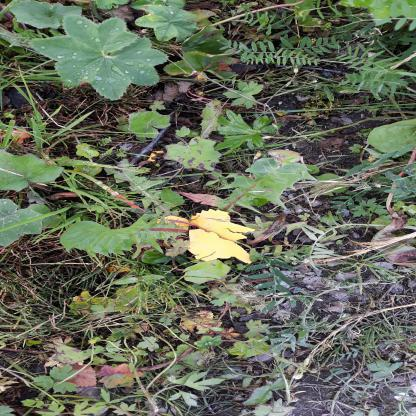plastik: (209, 162, 265, 230)
